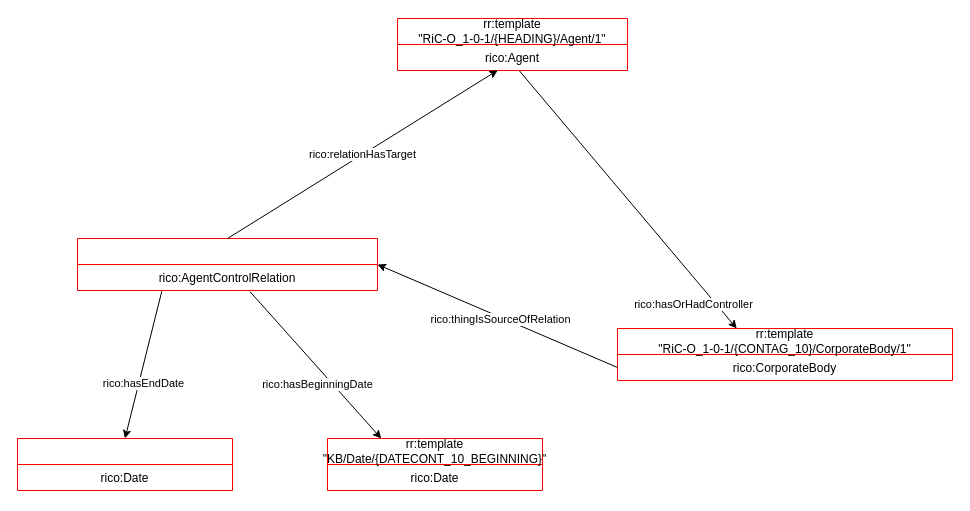
The diagram is 970 pixels wide and 511 high, and some of its shapes have lost their labels. Here are the shapes that lost their labels. From the top down, the box of each, then its label:
(76, 238, 378, 290): rr:template "RiC-O_1-0-1/{HEADING}/AgentControlRelation/10"
(16, 438, 232, 490): rr:template "KB/Date/{DATECONT_10_END}"
